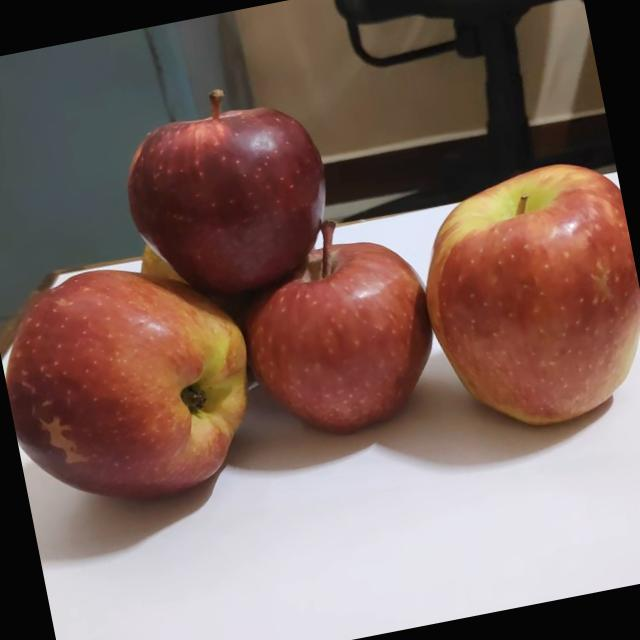apple: (0, 243, 279, 529), (387, 142, 640, 446), (95, 62, 339, 314), (212, 196, 450, 454), (119, 228, 198, 310)
